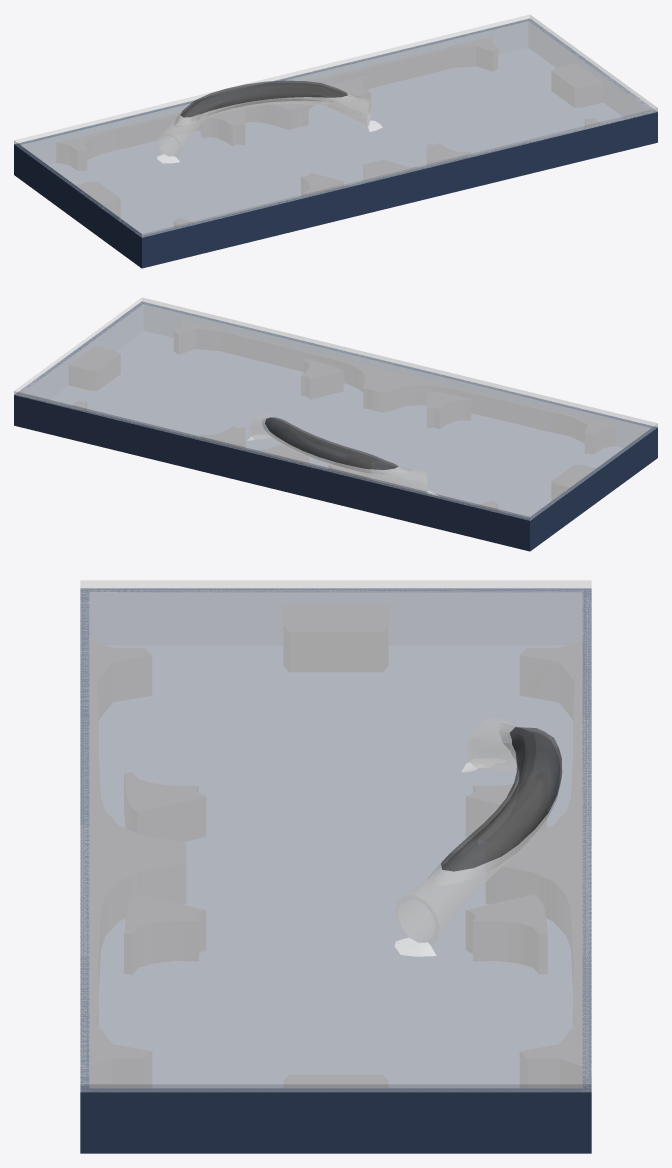
The model's file is playingfield_TestTable01_kgunn.fbx.
The picture shows the model from 3 angles, top to bottom: view 1: azimuth 30°, elevation 25°; view 2: azimuth 150°, elevation 25°; view 3: azimuth 270°, elevation 25°; orthographic projection. The views are drawn at different scales.
Parts seen in each view (by area): view 1: Glass01_GEO_TestTable01_kgunn, floor_GEO_TestTable01_kgunn, wall02_GEO_TestTable01_kgunn, sideBox01_GEO_TestTable01_kgunn, tunnel01_GEO_TestTable01_kgunn, wall01_GEO_TestTable01_kgunn, wall03_GEO_TestTable01_kgunn, wall04_GEO_TestTable01_kgunn, goalDivider01_GEO1_TestTable01_kgunn, box01_GEO_TestTable01_kgunn, sideBox02_GEO_TestTable01_kgunn, goalDivider01_GEO_TestTable01_kgunn (+3 smaller); view 2: Glass01_GEO_TestTable01_kgunn, floor_GEO_TestTable01_kgunn, wall01_GEO_TestTable01_kgunn, sideBox02_GEO_TestTable01_kgunn, wall02_GEO_TestTable01_kgunn, tunnel01_GEO_TestTable01_kgunn, wall03_GEO_TestTable01_kgunn, wall04_GEO_TestTable01_kgunn, goalDivider01_GEO1_TestTable01_kgunn, box04_GEO_TestTable01_kgunn, box02_GEO_TestTable01_kgunn, goalDivider01_GEO_TestTable01_kgunn (+2 smaller); view 3: Glass01_GEO_TestTable01_kgunn, floor_GEO_TestTable01_kgunn, wall04_GEO_TestTable01_kgunn, wall03_GEO_TestTable01_kgunn, sideBox02_GEO_TestTable01_kgunn, sideBox01_GEO_TestTable01_kgunn, tunnel01_GEO_TestTable01_kgunn, goalDivider01_GEO_TestTable01_kgunn, wall01_GEO_TestTable01_kgunn, wall02_GEO_TestTable01_kgunn, box03_GEO_TestTable01_kgunn, box04_GEO_TestTable01_kgunn (+3 smaller).
Part boxes in pixels (left/top/right/bottom): Glass01_GEO_TestTable01_kgunn: left=14, top=14, right=657, bottom=237; floor_GEO_TestTable01_kgunn: left=14, top=48, right=657, bottom=268; wall02_GEO_TestTable01_kgunn: left=139, top=110, right=657, bottom=264; sideBox01_GEO_TestTable01_kgunn: left=56, top=37, right=497, bottom=170; tunnel01_GEO_TestTable01_kgunn: left=157, top=80, right=370, bottom=156; wall01_GEO_TestTable01_kgunn: left=14, top=18, right=531, bottom=172; wall03_GEO_TestTable01_kgunn: left=16, top=145, right=142, bottom=262; wall04_GEO_TestTable01_kgunn: left=528, top=20, right=654, bottom=117; goalDivider01_GEO1_TestTable01_kgunn: left=551, top=63, right=602, bottom=107; box01_GEO_TestTable01_kgunn: left=201, top=109, right=244, bottom=145; sideBox02_GEO_TestTable01_kgunn: left=174, top=118, right=600, bottom=227; goalDivider01_GEO_TestTable01_kgunn: left=76, top=182, right=120, bottom=217; Glass01_GEO_TestTable01_kgunn: left=14, top=297, right=657, bottom=520; floor_GEO_TestTable01_kgunn: left=14, top=331, right=657, bottom=551; wall01_GEO_TestTable01_kgunn: left=14, top=393, right=532, bottom=547; sideBox02_GEO_TestTable01_kgunn: left=174, top=320, right=615, bottom=453; wall02_GEO_TestTable01_kgunn: left=140, top=301, right=657, bottom=455; tunnel01_GEO_TestTable01_kgunn: left=249, top=414, right=426, bottom=492; wall03_GEO_TestTable01_kgunn: left=529, top=428, right=655, bottom=545; wall04_GEO_TestTable01_kgunn: left=17, top=303, right=143, bottom=400; goalDivider01_GEO1_TestTable01_kgunn: left=69, top=346, right=120, bottom=390; box04_GEO_TestTable01_kgunn: left=301, top=359, right=343, bottom=399; box02_GEO_TestTable01_kgunn: left=427, top=392, right=470, bottom=428; goalDivider01_GEO_TestTable01_kgunn: left=551, top=465, right=595, bottom=500; Glass01_GEO_TestTable01_kgunn: left=80, top=580, right=591, bottom=1092; floor_GEO_TestTable01_kgunn: left=80, top=646, right=591, bottom=1153; wall04_GEO_TestTable01_kgunn: left=89, top=1088, right=582, bottom=1145; wall03_GEO_TestTable01_kgunn: left=89, top=588, right=582, bottom=645; sideBox02_GEO_TestTable01_kgunn: left=89, top=641, right=185, bottom=1087; sideBox01_GEO_TestTable01_kgunn: left=486, top=641, right=582, bottom=1087; tunnel01_GEO_TestTable01_kgunn: left=395, top=719, right=562, bottom=944; goalDivider01_GEO_TestTable01_kgunn: left=283, top=605, right=388, bottom=671; wall01_GEO_TestTable01_kgunn: left=582, top=588, right=591, bottom=1145; wall02_GEO_TestTable01_kgunn: left=80, top=588, right=89, bottom=1145; box03_GEO_TestTable01_kgunn: left=466, top=894, right=547, bottom=974; box04_GEO_TestTable01_kgunn: left=124, top=894, right=205, bottom=974.
Size of the model in its own units: 26.8 by 2.31 by 11.5.
